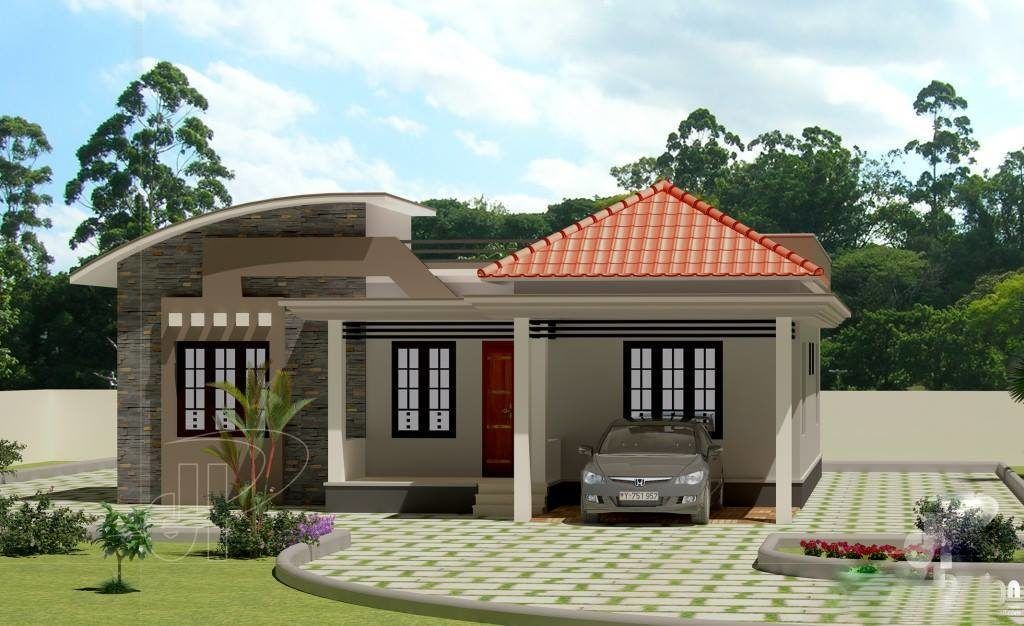Building House: (63, 176, 852, 524)
